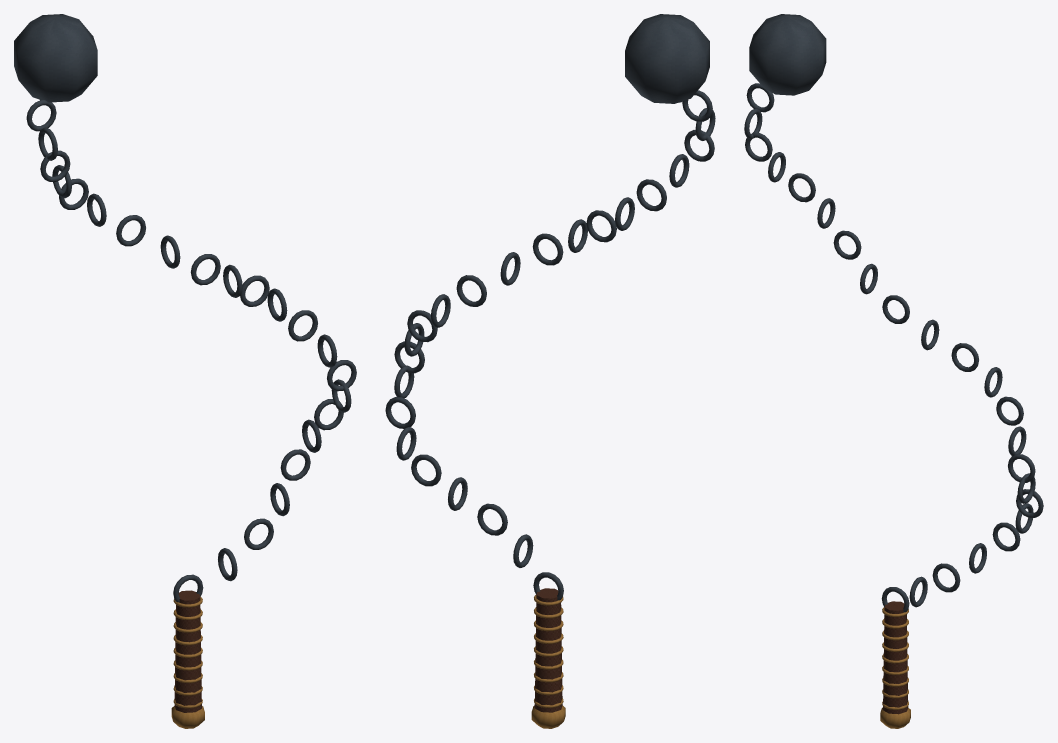
Rendered from weighted-chain.lod2.glb.
3 renders of one model, left to right at view 1: azimuth 30°, elevation 25°; view 2: azimuth 150°, elevation 25°; view 3: azimuth 330°, elevation 25°, orthographic. The views are drawn at different scales.
Parts seen in each view (by area): view 1: iron.36, leather.0; view 2: iron.36, leather.0, brass.10; view 3: iron.36, leather.0.
Boxes of the visible parts, x1,y1,x2,y2 form: iron.36: (14, 14, 97, 102); leather.0: (174, 590, 201, 712); iron.36: (625, 14, 709, 103); leather.0: (534, 588, 562, 712); brass.10: (531, 705, 565, 728); iron.36: (749, 14, 826, 95); leather.0: (883, 601, 908, 714).
Bounding box in the file's own units: 0.6537 × 1.43 × 0.1585.
Materials: 3 (3 with a texture image).
